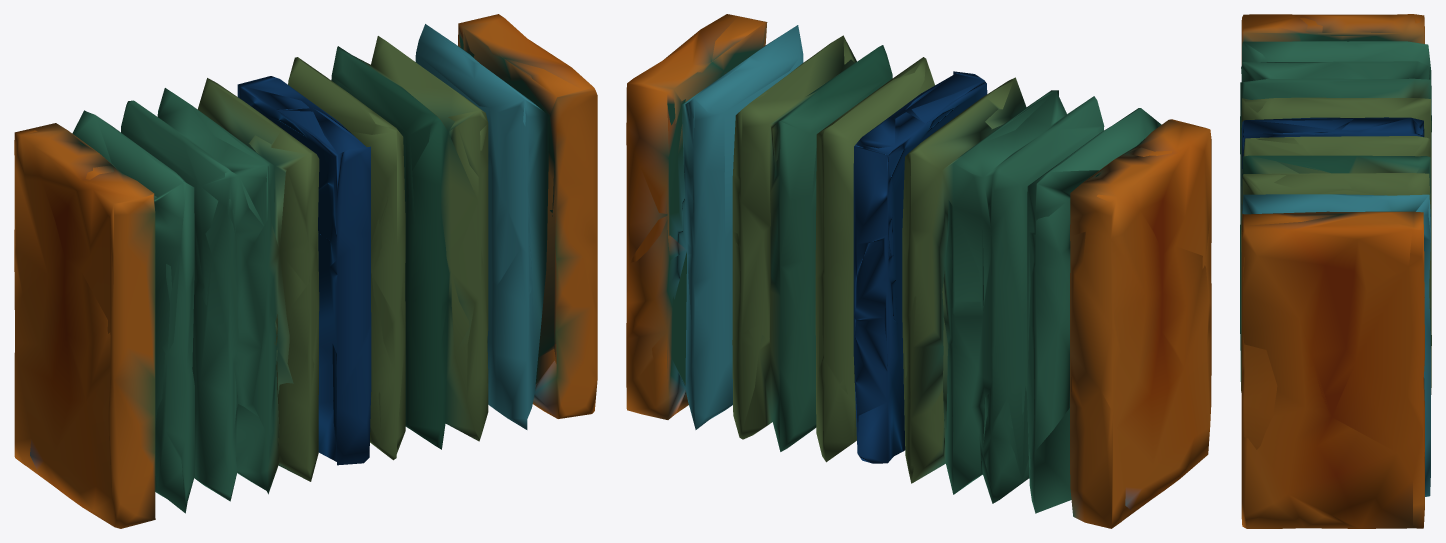
The model's file is gen3d-accordion-lod0.glb.
3 renders of one model, left to right at view 1: azimuth 30°, elevation 25°; view 2: azimuth 150°, elevation 25°; view 3: azimuth 270°, elevation 25°, orthographic. The views are drawn at different scales.
Visible parts, largest first — view 1: part_0; view 2: part_0; view 3: part_0.
Boxes of the visible parts, x1,y1,x2,y2 form: part_0: [14, 14, 597, 528]; part_0: [626, 14, 1211, 528]; part_0: [1240, 14, 1431, 528].
Size of the model in its own units: 1.52 by 0.9998 by 0.5705.
